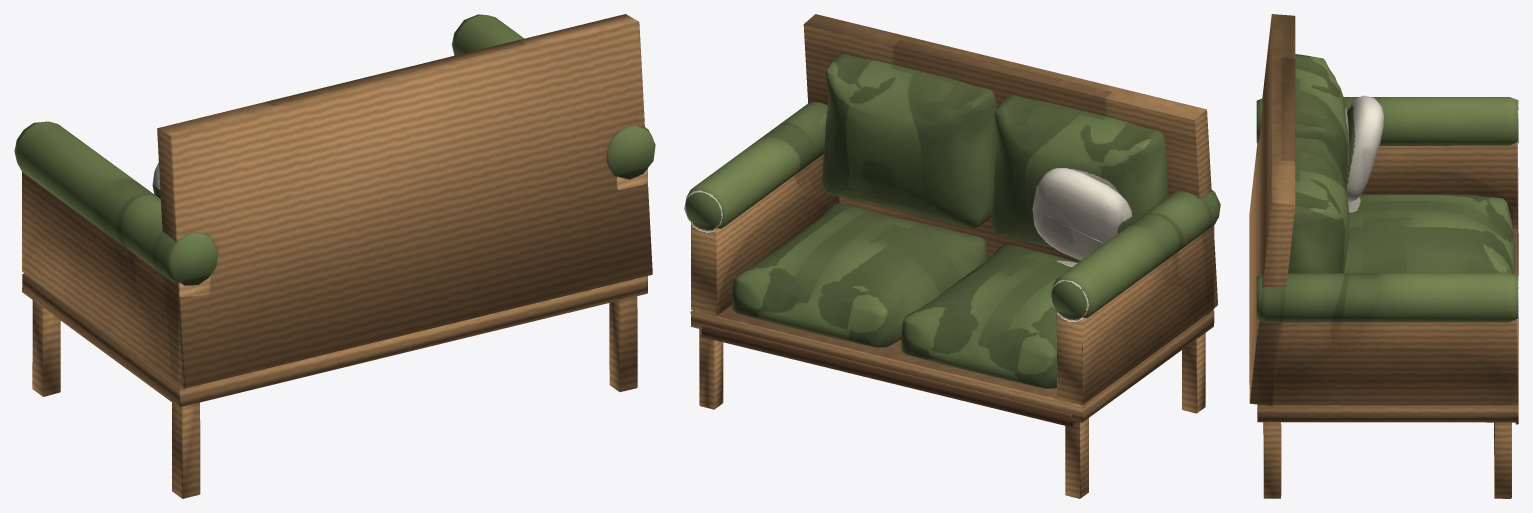
Rendered from sofa_moss.glb.
The picture shows the model from 3 angles, left to right: view 1: azimuth 30°, elevation 25°; view 2: azimuth 150°, elevation 25°; view 3: azimuth 270°, elevation 25°; orthographic projection. The views are drawn at different scales.
Parts seen in each view (by area): view 1: prop_sofa_moss_wood, prop_sofa_moss_felt; view 2: prop_sofa_moss_felt, prop_sofa_moss_wood; view 3: prop_sofa_moss_wood, prop_sofa_moss_felt.
Part boxes in pixels (x1,y1,x2,y2): prop_sofa_moss_wood: [22, 14, 652, 498]; prop_sofa_moss_felt: [14, 14, 655, 285]; prop_sofa_moss_felt: [684, 53, 1220, 388]; prop_sofa_moss_wood: [690, 14, 1217, 498]; prop_sofa_moss_wood: [1249, 14, 1518, 498]; prop_sofa_moss_felt: [1256, 54, 1518, 322].
Bounding box in the file's own units: 3 × 2.12 × 1.73.
Materials: 2 (2 with a texture image).
